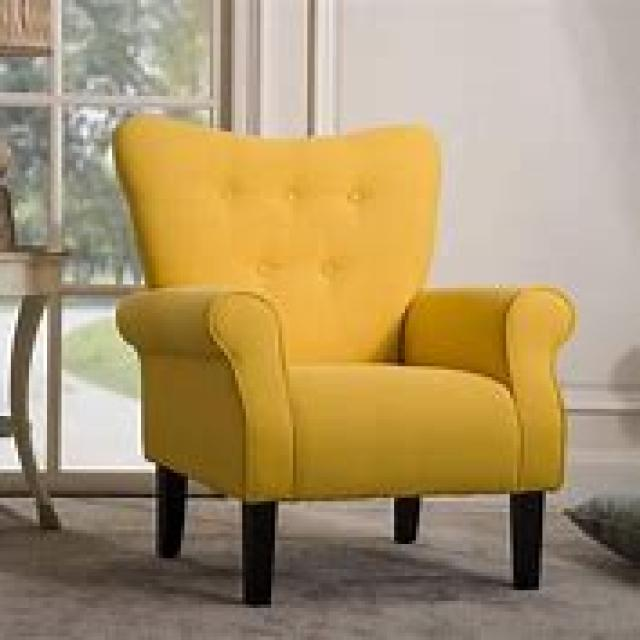chair: (108, 110, 575, 604)
